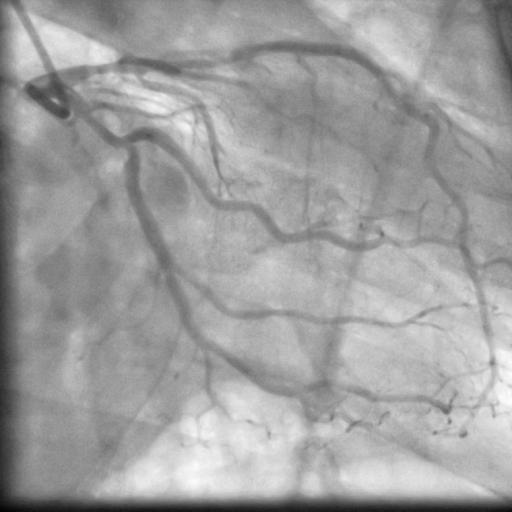Stenosis: (188, 46, 250, 70)
